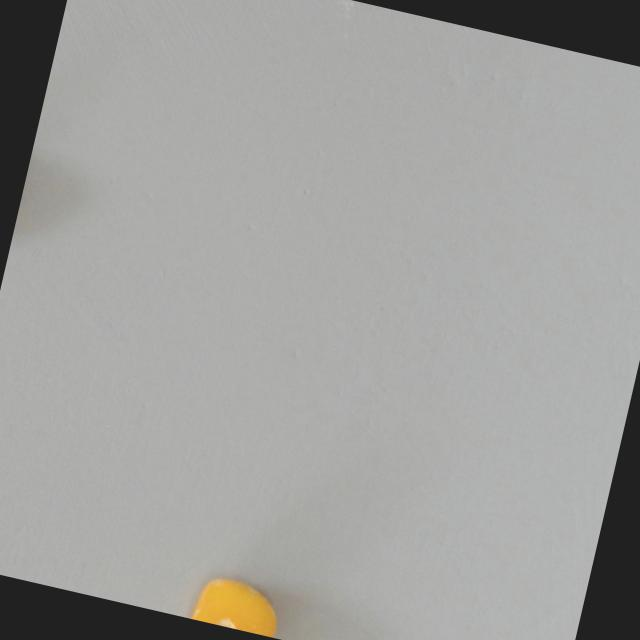dañado: (181, 567, 288, 638)
